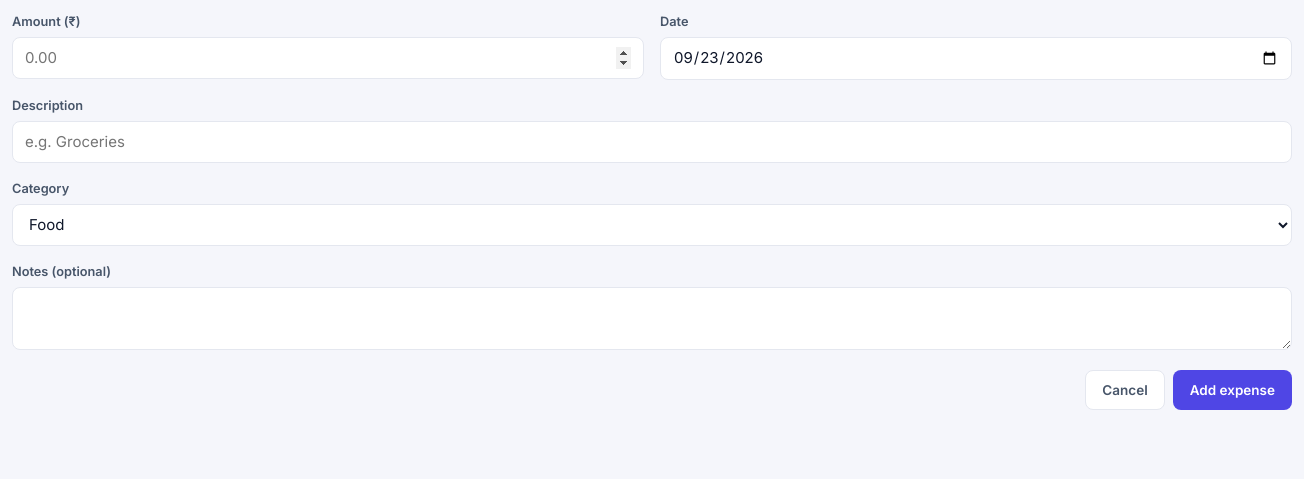
Test: <ExpenseForm /> › shows validation errors and does not submit invalid data
The width and height of the screenshot is (1304, 479).
Click the button "Add expense" at (1232, 390), box [1173,370,1292,410]
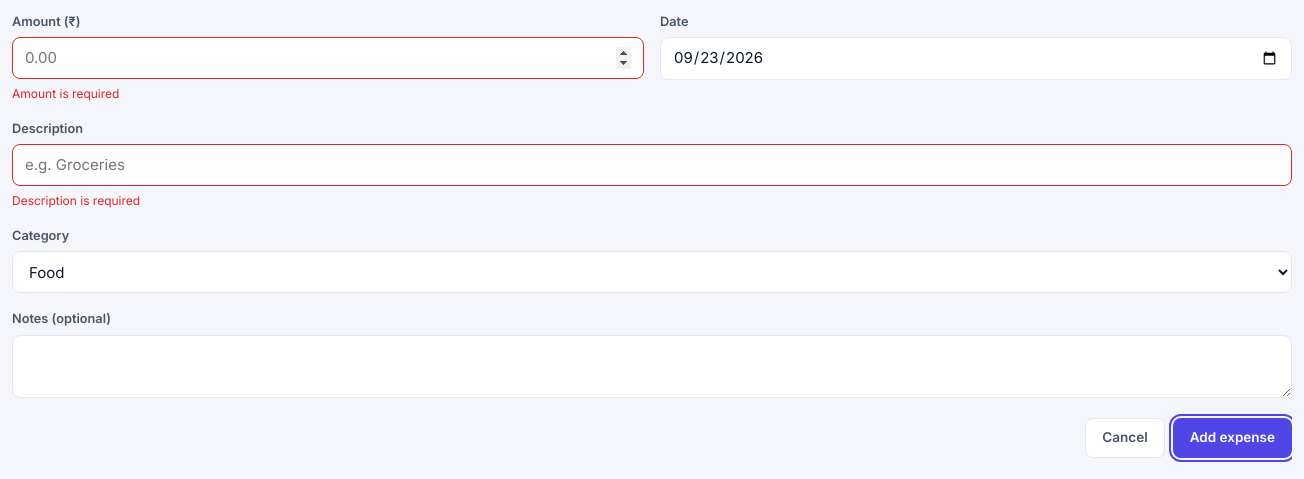
Result: the text "Amount is required" is shown at [12,86,119,101]
Result: the text "Description is required" is shown at [12,193,140,208]
